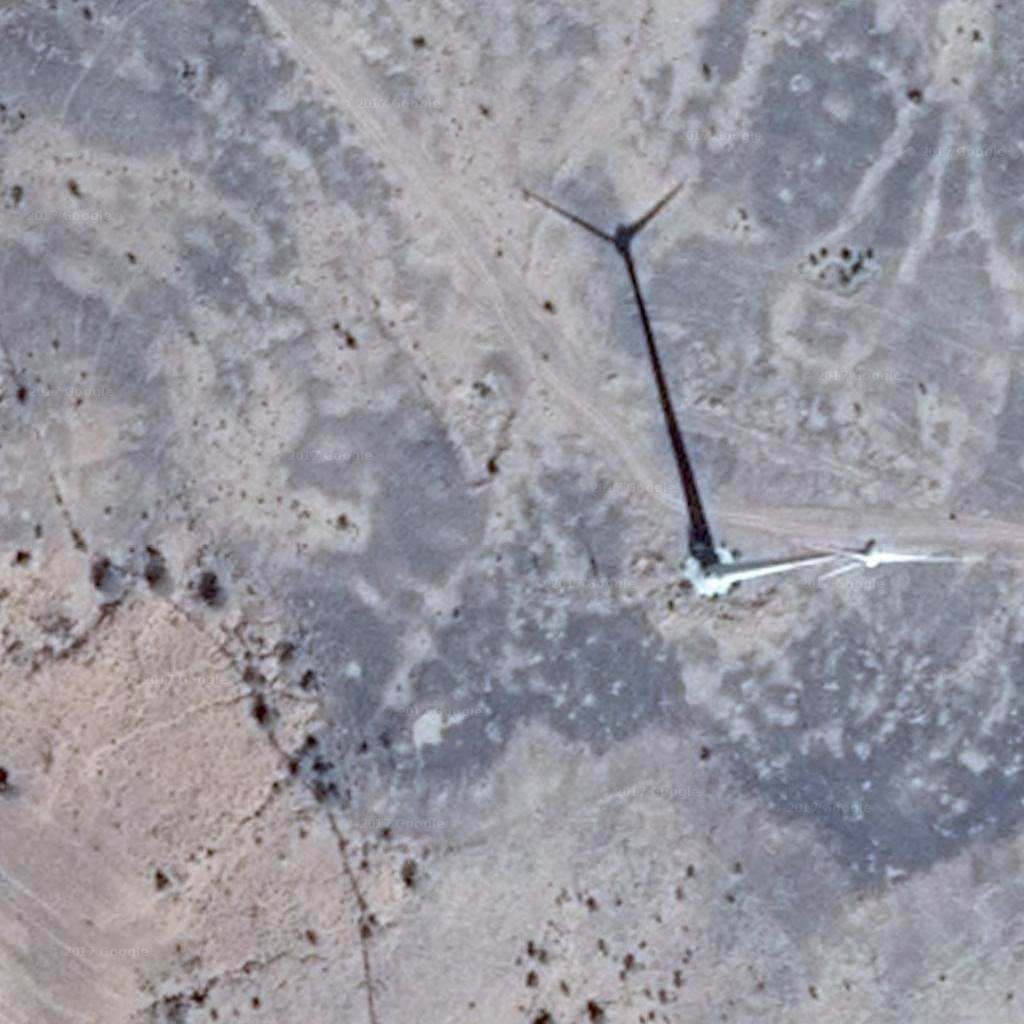Windmill: (518, 179, 734, 558)
